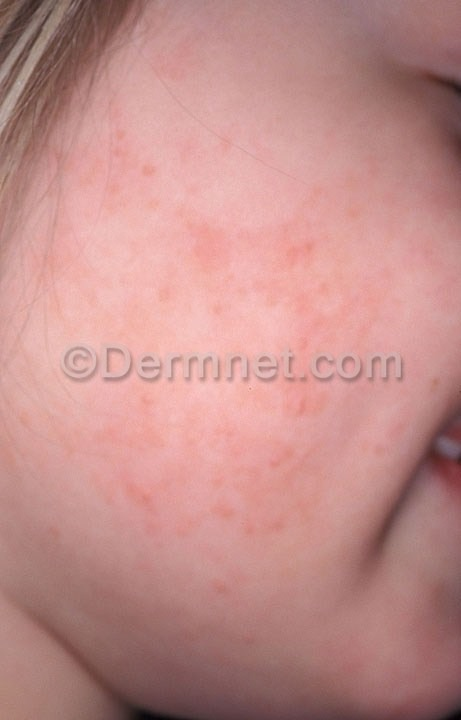Eczema: (52, 43, 406, 642)
